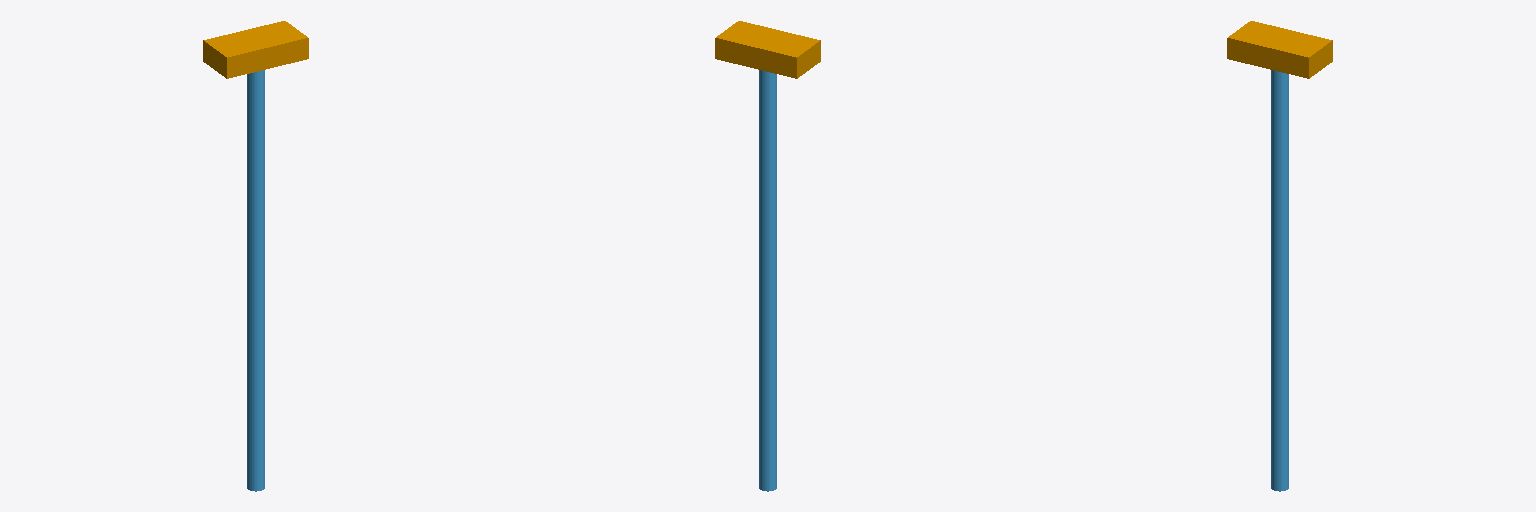
URDF robot description (GEN3_URDF_V12):
<robot name="GEN3_URDF_V12">
  <link name="base_link">
    <inertial>
      <origin xyz="-0.000648 -0.000166 0.084487" rpy="0 0 0" />
      <mass value="1.697" />
      <inertia ixx="0.004622" ixy="9E-06" ixz="6E-05" iyy="0.004495" iyz="9E-06" izz="0.002079" />
    </inertial>
    <visual>
      <origin xyz="0 0 0" rpy="0 0 0" />
      <geometry>
        <mesh filename="package://drake_project/models/kinova_description/gen3/7dof/meshes/base_link.obj" />
      </geometry>
      <material name="">
        <color rgba="0.75294 0.75294 0.75294 1" />
      </material>
    </visual>
    <collision>
      <origin xyz="0 0 0" rpy="0 0 0" />
      <geometry>
        <mesh filename="package://drake_project/models/kinova_description/gen3/7dof/meshes/base_link.obj" />
      </geometry>
    </collision>
  </link>
  <link name="Shoulder_Link">
    <inertial>
      <origin xyz="-2.3E-05 -0.010364 -0.07336" rpy="0 0 0" />
      <mass value="1.3773" />
      <inertia ixx="0.00457" ixy="1E-06" ixz="2E-06" iyy="0.004831" iyz="0.000448" izz="0.001409" />
    </inertial>
    <visual>
      <origin xyz="0 0 0" rpy="0 0 0" />
      <geometry>
        <mesh filename="package://drake_project/models/kinova_description/gen3/7dof/meshes/shoulder_link.obj" />
      </geometry>
      <material name="">
        <color rgba="0.75294 0.75294 0.75294 1" />
      </material>
    </visual>
    <collision>
      <origin xyz="0 0 0" rpy="0 0 0" />
      <geometry>
        <mesh filename="package://drake_project/models/kinova_description/gen3/7dof/meshes/shoulder_link.obj" />
      </geometry>
    </collision>
  </link>
  <joint name="Actuator1" type="continuous">
    <origin xyz="0 0 0.15643" rpy="3.1416 2.7629E-18 -4.9305E-36" />
    <parent link="base_link" />
    <child link="Shoulder_Link" />
    <axis xyz="0 0 1" />
    <limit lower="-1.57" upper="1.57" effort="39" velocity="0.8727" />
  </joint>
  <link name="HalfArm1_Link">
    <inertial>
      <origin xyz="-4.4E-05 -0.09958 -0.013278" rpy="0 0 0" />
      <mass value="1.1636" />
      <inertia ixx="0.011088" ixy="5E-06" ixz="0" iyy="0.001072" iyz="-0.000691" izz="0.011255" />
    </inertial>
    <visual>
      <origin xyz="0 0 0" rpy="0 0 0" />
      <geometry>
        <mesh filename="package://drake_project/models/kinova_description/gen3/7dof/meshes/half_arm_1_link.obj" />
      </geometry>
      <material name="">
        <color rgba="0.75294 0.75294 0.75294 1" />
      </material>
    </visual>
    <collision>
      <origin xyz="0 0 0" rpy="0 0 0" />
      <geometry>
        <mesh filename="package://drake_project/models/kinova_description/gen3/7dof/meshes/half_arm_1_link.obj" />
      </geometry>
    </collision>
  </link>
  <joint name="Actuator2" type="revolute">
    <origin xyz="0 0.005375 -0.12838" rpy="1.5708 2.1343E-17 -1.1102E-16" />
    <parent link="Shoulder_Link" />
    <child link="HalfArm1_Link" />
    <axis xyz="0 0 1" />
    <limit lower="-2.41" upper="2.41" effort="39" velocity="0.8727" />
  </joint>
  <link name="HalfArm2_Link">
    <inertial>
      <origin xyz="-4.4E-05 -0.006641 -0.117892" rpy="0 0 0" />
      <mass value="1.1636" />
      <inertia ixx="0.010932" ixy="0" ixz="-7E-06" iyy="0.011127" iyz="0.000606" izz="0.001043" />
    </inertial>
    <visual>
      <origin xyz="0 0 0" rpy="0 0 0" />
      <geometry>
        <mesh filename="package://drake_project/models/kinova_description/gen3/7dof/meshes/half_arm_2_link.obj" />
      </geometry>
      <material name="">
        <color rgba="0.75294 0.75294 0.75294 1" />
      </material>
    </visual>
    <collision>
      <origin xyz="0 0 0" rpy="0 0 0" />
      <geometry>
        <mesh filename="package://drake_project/models/kinova_description/gen3/7dof/meshes/half_arm_2_link.obj" />
      </geometry>
    </collision>
  </link>
  <joint name="Actuator3" type="continuous">
    <origin xyz="0 -0.21038 -0.006375" rpy="-1.5708 1.2326E-32 -2.9122E-16" />
    <parent link="HalfArm1_Link" />
    <child link="HalfArm2_Link" />
    <axis xyz="0 0 1" />
    <limit lower="-1.57" upper="1.57" effort="39" velocity="0.8727" />
  </joint>
  <link name="ForeArm_Link">
    <inertial>
      <origin xyz="-1.8E-05 -0.075478 -0.015006" rpy="0 0 0" />
      <mass value="0.9302" />
      <inertia ixx="0.008147" ixy="-1E-06" ixz="0" iyy="0.000631" iyz="-0.0005" izz="0.008316" />
    </inertial>
    <visual>
      <origin xyz="0 0 0" rpy="0 0 0" />
      <geometry>
        <mesh filename="package://drake_project/models/kinova_description/gen3/7dof/meshes/forearm_link.obj" />
      </geometry>
      <material name="">
        <color rgba="0.75294 0.75294 0.75294 1" />
      </material>
    </visual>
    <collision>
      <origin xyz="0 0 0" rpy="0 0 0" />
      <geometry>
        <mesh filename="package://drake_project/models/kinova_description/gen3/7dof/meshes/forearm_link.obj" />
      </geometry>
    </collision>
  </link>
  <joint name="Actuator4" type="revolute">
    <origin xyz="0 0.006375 -0.21038" rpy="1.5708 -6.6954E-17 -1.6653E-16" />
    <parent link="HalfArm2_Link" />
    <child link="ForeArm_Link" />
    <axis xyz="0 0 1" />
    <limit lower="-2.66" upper="2.66" effort="39" velocity="0.8727" />
  </joint>
  <link name="SphericalWrist1_Link">
    <inertial>
      <origin xyz="1E-06 -0.009432 -0.063883" rpy="0 0 0" />
      <mass value="0.6781" />
      <inertia ixx="0.001596" ixy="0" ixz="0" iyy="0.001607" iyz="0.000256" izz="0.000399" />
    </inertial>
    <visual>
      <origin xyz="0 0 0" rpy="0 0 0" />
      <geometry>
        <mesh filename="package://drake_project/models/kinova_description/gen3/7dof/meshes/spherical_wrist_1_link.obj" />
      </geometry>
      <material name="">
        <color rgba="0.75294 0.75294 0.75294 1" />
      </material>
    </visual>
    <collision>
      <origin xyz="0 0 0" rpy="0 0 0" />
      <geometry>
        <mesh filename="package://drake_project/models/kinova_description/gen3/7dof/meshes/spherical_wrist_1_link.obj" />
      </geometry>
    </collision>
  </link>
  <joint name="Actuator5" type="continuous">
    <origin xyz="0 -0.20843 -0.006375" rpy="-1.5708 2.2204E-16 -6.373E-17" />
    <parent link="ForeArm_Link" />
    <child link="SphericalWrist1_Link" />
    <axis xyz="0 0 1" />
    <limit lower="-1.57" upper="1.57" effort="9" velocity="0.8727" />
  </joint>
  <link name="SphericalWrist2_Link">
    <inertial>
      <origin xyz="1E-06 -0.045483 -0.00965" rpy="0 0 0" />
      <mass value="0.6781" />
      <inertia ixx="0.001641" ixy="0" ixz="0" iyy="0.00041" iyz="-0.000278" izz="0.001641" />
    </inertial>
    <visual>
      <origin xyz="0 0 0" rpy="0 0 0" />
      <geometry>
        <mesh filename="package://drake_project/models/kinova_description/gen3/7dof/meshes/spherical_wrist_2_link.obj" />
      </geometry>
      <material name="">
        <color rgba="0.75294 0.75294 0.75294 1" />
      </material>
    </visual>
    <collision>
      <origin xyz="0 0 0" rpy="0 0 0" />
      <geometry>
        <mesh filename="package://drake_project/models/kinova_description/gen3/7dof/meshes/spherical_wrist_2_link.obj" />
      </geometry>
    </collision>
  </link>
  <joint name="Actuator6" type="revolute">
    <origin xyz="0 0.00017505 -0.10593" rpy="1.5708 9.2076E-28 -8.2157E-15" />
    <parent link="SphericalWrist1_Link" />
    <child link="SphericalWrist2_Link" />
    <axis xyz="0 0 1" />
    <limit lower="-2.23" upper="2.23" effort="9" velocity="0.8727" />
  </joint>
  <link name="Bracelet_Link">
    <inertial>
      <origin xyz="-0.000281 -0.011402 -0.029798" rpy="0 0 0" />
      <mass value="0.5006" />
      <inertia ixx="0.000587" ixy="3E-06" ixz="3E-06" iyy="0.000369" iyz="0.000118" izz="0.000609" />
    </inertial>
    <visual>
      <origin xyz="0 0 0" rpy="0 0 0" />
      <geometry>
        <mesh filename="package://drake_project/models/kinova_description/gen3/7dof/meshes/bracelet_with_vision_link.obj" />
      </geometry>
      <material name="">
        <color rgba="0.75294 0.75294 0.75294 1" />
      </material>
    </visual>
    <collision>
      <origin xyz="0 0 0" rpy="0 0 0" />
      <geometry>
        <mesh filename="package://drake_project/models/kinova_description/gen3/7dof/meshes/bracelet_with_vision_link.obj" />
      </geometry>
    </collision>
  </link>
  <joint name="Actuator7" type="continuous">
    <origin xyz="0 -0.10593 -0.00017505" rpy="-1.5708 -5.5511E-17 9.6396E-17" />
    <parent link="SphericalWrist2_Link" />
    <child link="Bracelet_Link" />
    <axis xyz="0 0 1" />
    <limit lower="-1.57" upper="1.57" effort="9" velocity="0.8727" />
  </joint>

<!-- Cart body welded to Kinova wrist -->
<link name="cart_body">
  <inertial>
    <origin xyz="0 0 0" rpy="0 0 0"/>
    <mass value="0.5"/>
    <inertia ixx="0.01" ixy="0" ixz="0"
             iyy="0.01" iyz="0"
             izz="0.01"/>
  </inertial>
  <visual>
    <geometry>
      <box size="0.2 0.1 0.05"/>
    </geometry>
  </visual>
  <collision>
    <geometry>
      <box size="0.2 0.1 0.05"/>
    </geometry>
  </collision>
</link>

<joint name="wrist_to_cart" type="fixed">
  <parent link="Bracelet_Link"/>
  <child  link="cart_body"/>
  <origin xyz="0 0 -0.05" rpy="0 0 0"/>
</joint>

<!-- Pole link, free to rotate about Y-axis -->
<link name="pole_link">
  <inertial>
    <origin xyz="0 0 0.5" rpy="0 0 0"/>
    <mass value="0.1"/>
    <inertia ixx="0.001" ixy="0" ixz="0"
             iyy="0.001" iyz="0"
             izz="0.001"/>
  </inertial>
  <visual>
    <geometry>
      <cylinder length="1.0" radius="0.02"/>
    </geometry>
    <origin xyz="0 0 0.5" rpy="0 0 0"/>
  </visual>
  <collision>
    <geometry>
      <cylinder length="1.0" radius="0.02"/>
    </geometry>
    <origin xyz="0 0 0.5" rpy="0 0 0"/>
  </collision>
</link>

<joint name="cart_pole_joint" type="revolute">
  <parent link="cart_body"/>
  <child  link="pole_link"/>
  <origin xyz="0 0 0.025" rpy="0 0 0"/>
  <axis  xyz="0 1 0"/>
  <limit lower="-1.57" upper="1.57" effort="5" velocity="1.0"/>
</joint>


</robot>

--- Render facts (derived) ---
3 views of the same robot in one strip: view 1: azimuth 30°, elevation 25°; view 2: azimuth 150°, elevation 25°; view 3: azimuth 330°, elevation 25° (orthographic).
Robot: GEN3_URDF_V12 — 10 links, 9 joints (4 revolute, 4 continuous, 1 fixed); root link base_link; default pose: all joints at 0.
Visible links, largest first — view 1: pole_link, cart_body; view 2: pole_link, cart_body; view 3: pole_link, cart_body.
Boxes of the visible links, x1,y1,x2,y2 form: pole_link: (247, 70, 264, 491); cart_body: (203, 21, 308, 78); pole_link: (759, 70, 776, 491); cart_body: (715, 21, 820, 78); pole_link: (1271, 70, 1288, 491); cart_body: (1227, 21, 1332, 78).
Size in the robot's own frame: 0.2 by 0.1 by 1.05 metres.
0 mesh visuals loaded from 8 distinct referenced files (none loaded); not drawn: 8 (reference not matched to a file when rendering).